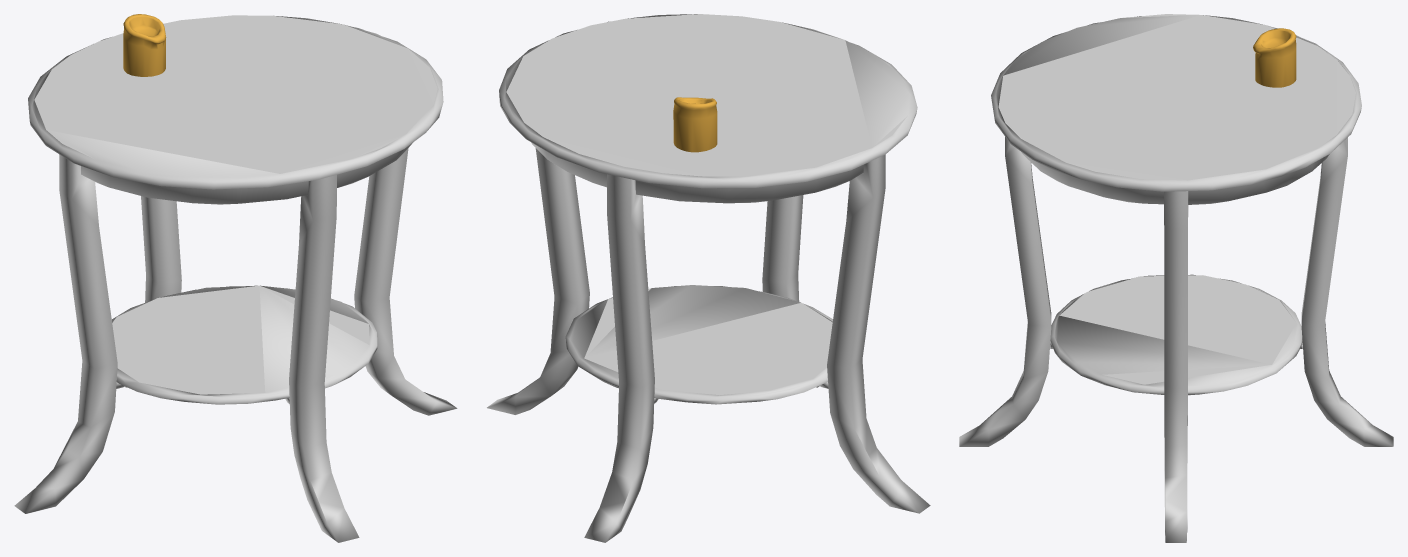
Rendered from PriesteraGalds2.fbx.
3 renders of one model, left to right at view 1: azimuth 30°, elevation 25°; view 2: azimuth 150°, elevation 25°; view 3: azimuth 270°, elevation 25°, orthographic. The views are drawn at different scales.
Parts seen in each view (by area): view 1: Cube.009; view 2: Cube.009; view 3: Cube.009.
Boxes of the visible parts, bbox=[...] form: Cube.009: bbox=[14, 14, 457, 542]; Cube.009: bbox=[487, 14, 930, 542]; Cube.009: bbox=[959, 14, 1393, 542].
Size of the model in its own units: 1.2 by 1.08 by 1.09.
